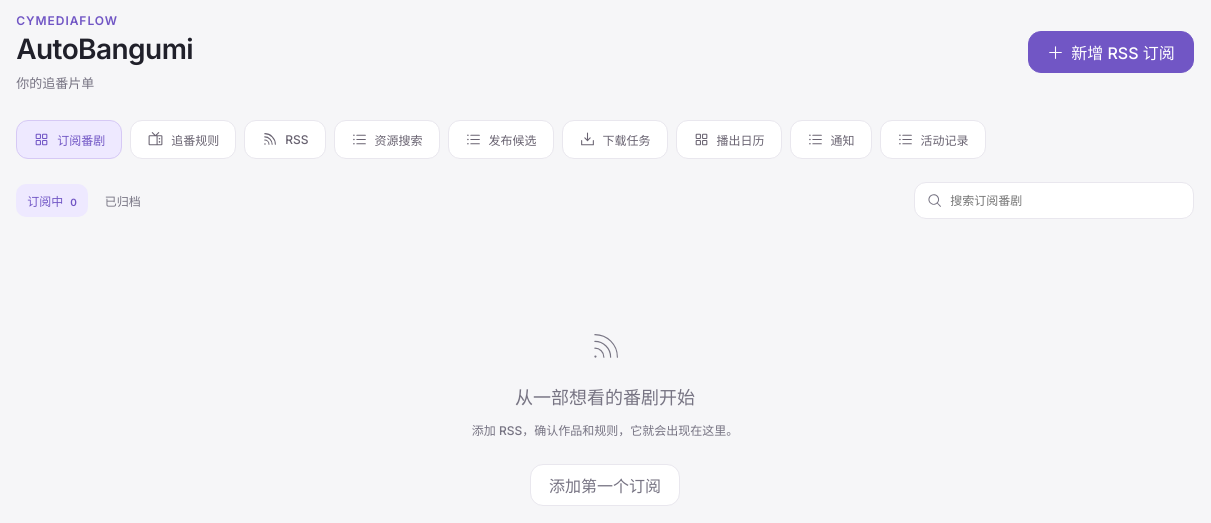
it: AutomationPage › lets missing unconfirmed downloads retry and hides retry after qB confirmation
Click the tab "下载任务".
click(614, 139)  # box [562, 120, 668, 159]
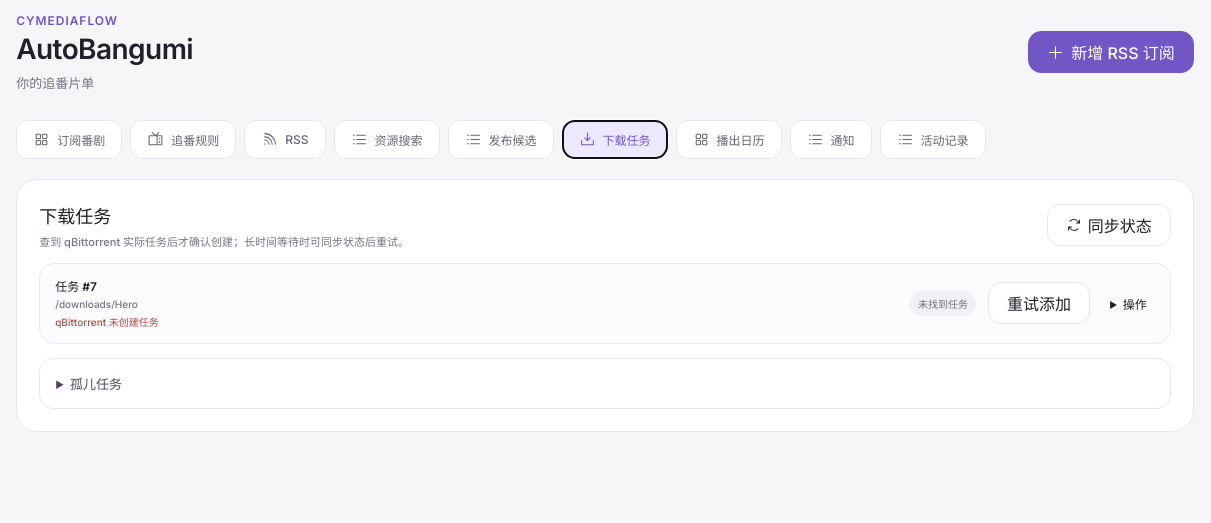
Now the text "未找到任务" is shown, box [910, 291, 976, 316]
Click the button "重试添加".
click(1039, 303)  # box [988, 282, 1090, 324]
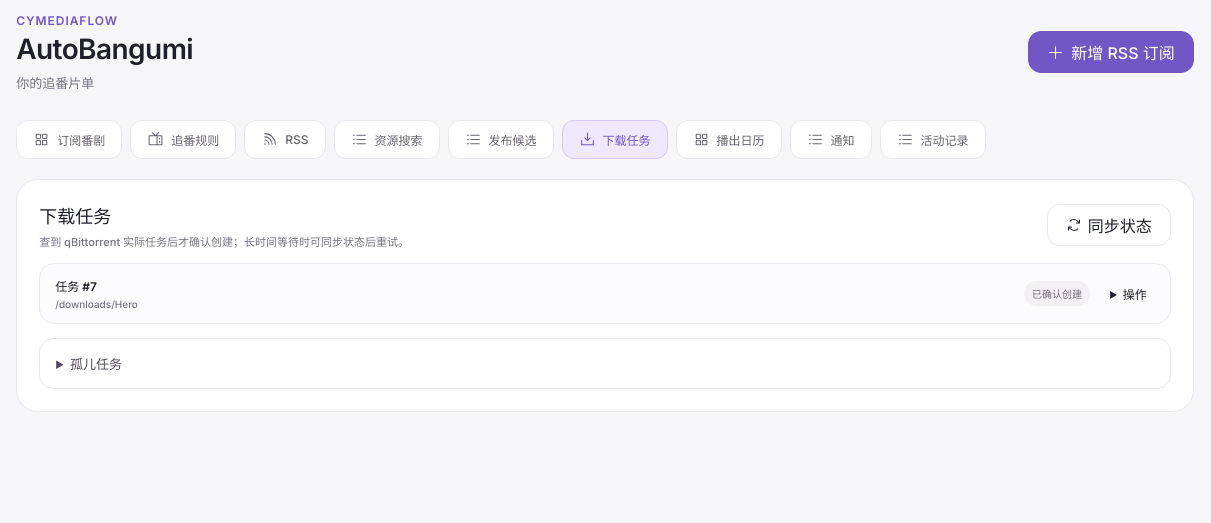
Now the text "已确认创建" is shown, box [1024, 281, 1090, 306]
Now the button "重试添加" is gone
